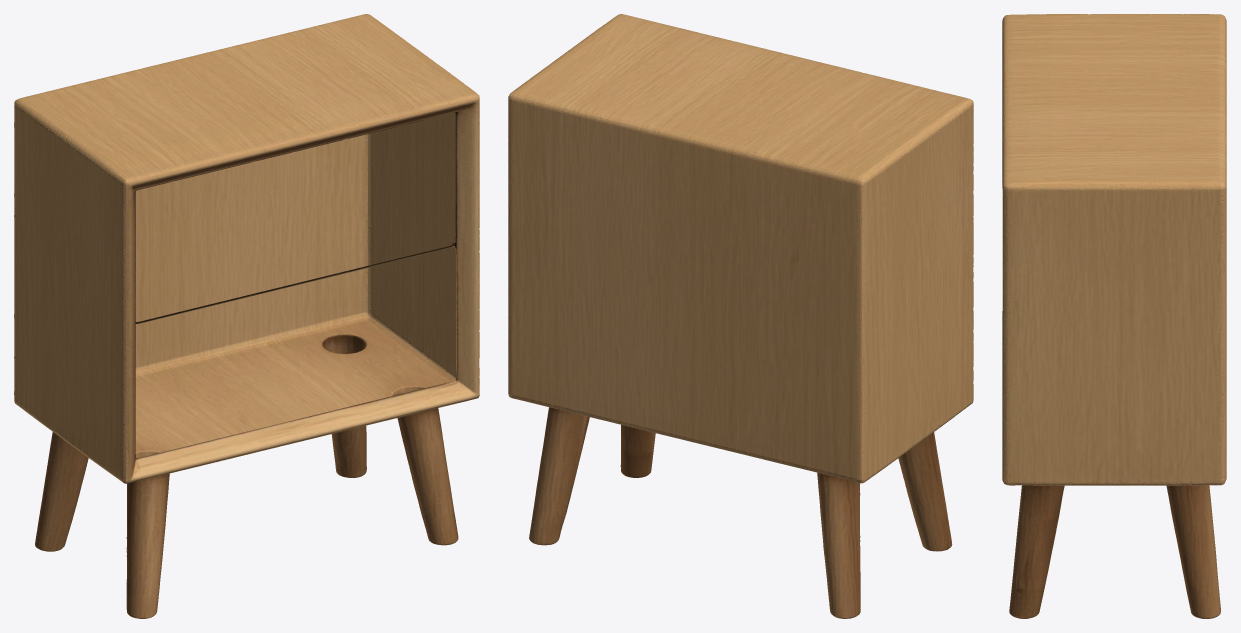
Rendered from body.glb.
3 renders of one model, left to right at view 1: azimuth 30°, elevation 25°; view 2: azimuth 150°, elevation 25°; view 3: azimuth 270°, elevation 25°, orthographic.
Visible parts, largest first — view 1: source_surface_0; view 2: source_surface_0; view 3: source_surface_0.
Part boxes in pixels (x1,y1,x2,y2): source_surface_0: (14, 14, 479, 618); source_surface_0: (508, 14, 973, 618); source_surface_0: (1002, 14, 1226, 618).
Size of the model in its own units: 0.5433 by 0.65 by 0.2984.
Materials: 1 (1 with a texture image).
